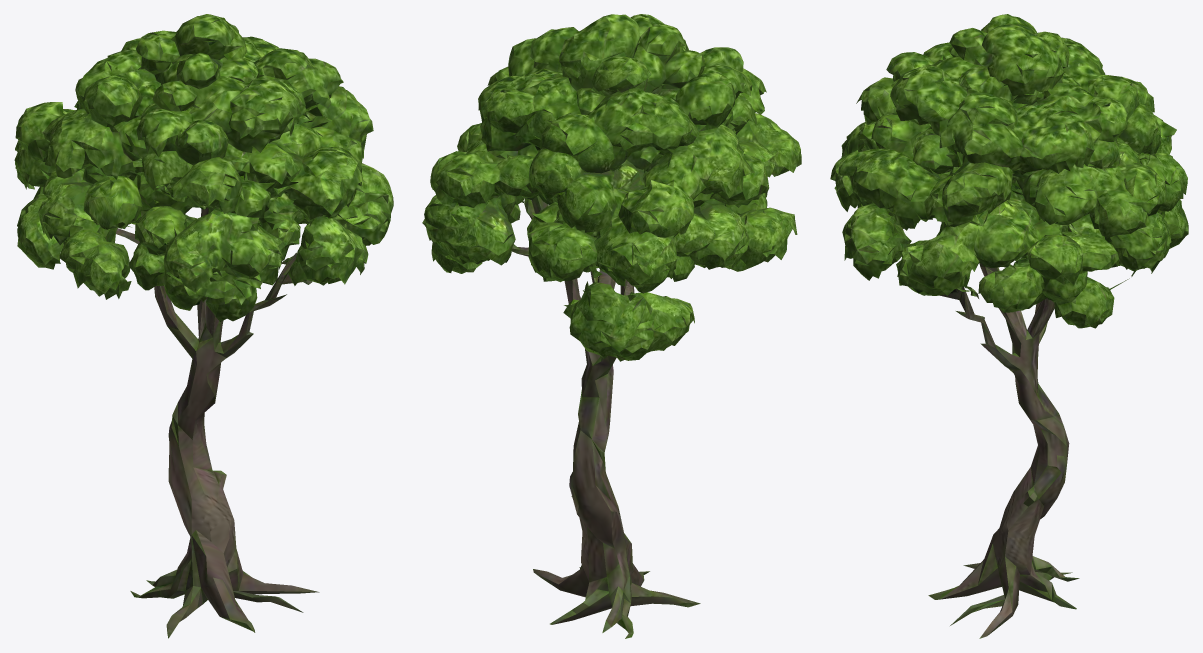
The model's file is tree-common-a.glb.
The picture shows the model from 3 angles, left to right: view 1: azimuth 30°, elevation 25°; view 2: azimuth 150°, elevation 25°; view 3: azimuth 270°, elevation 25°; orthographic projection. The views are drawn at different scales.
Visible parts, largest first — view 1: Mesh_0; view 2: Mesh_0; view 3: Mesh_0.
Part boxes in pixels (x1,y1,x2,y2): Mesh_0: (14,14,393,638); Mesh_0: (422,14,801,638); Mesh_0: (830,14,1188,638).
Bounding box in the file's own units: 4.39 × 8 × 4.57.
1 material, 1 textured.
